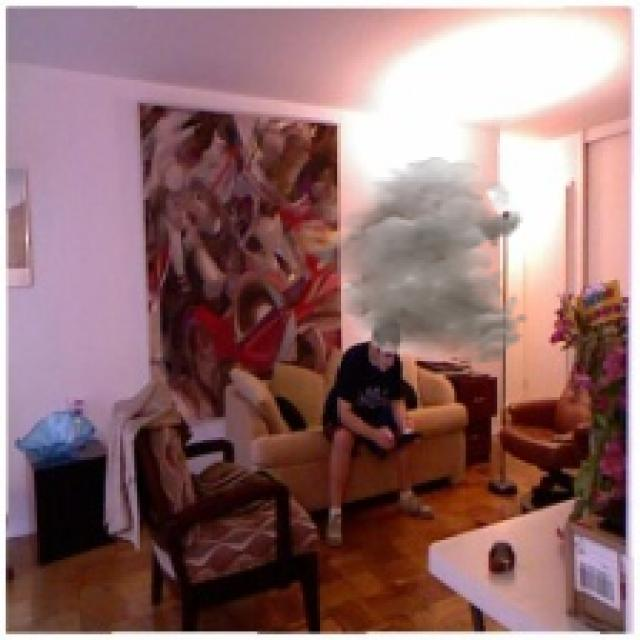smoke: (312, 157, 528, 366)
